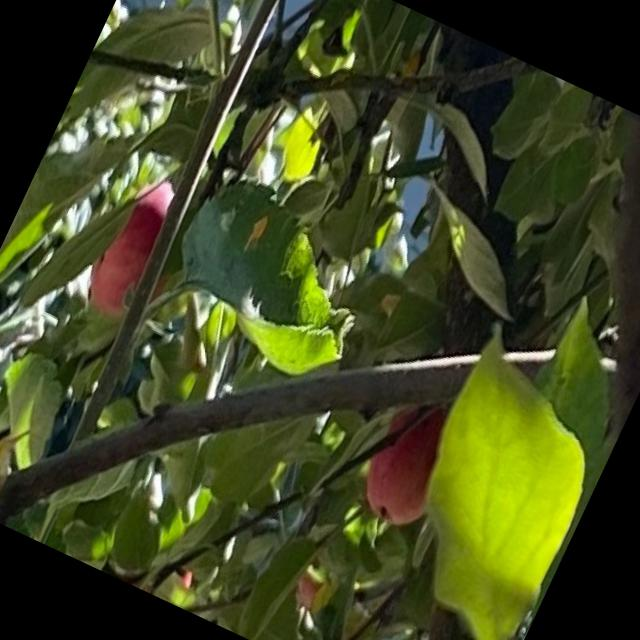Apples: (78, 170, 201, 328), (352, 383, 473, 532)
